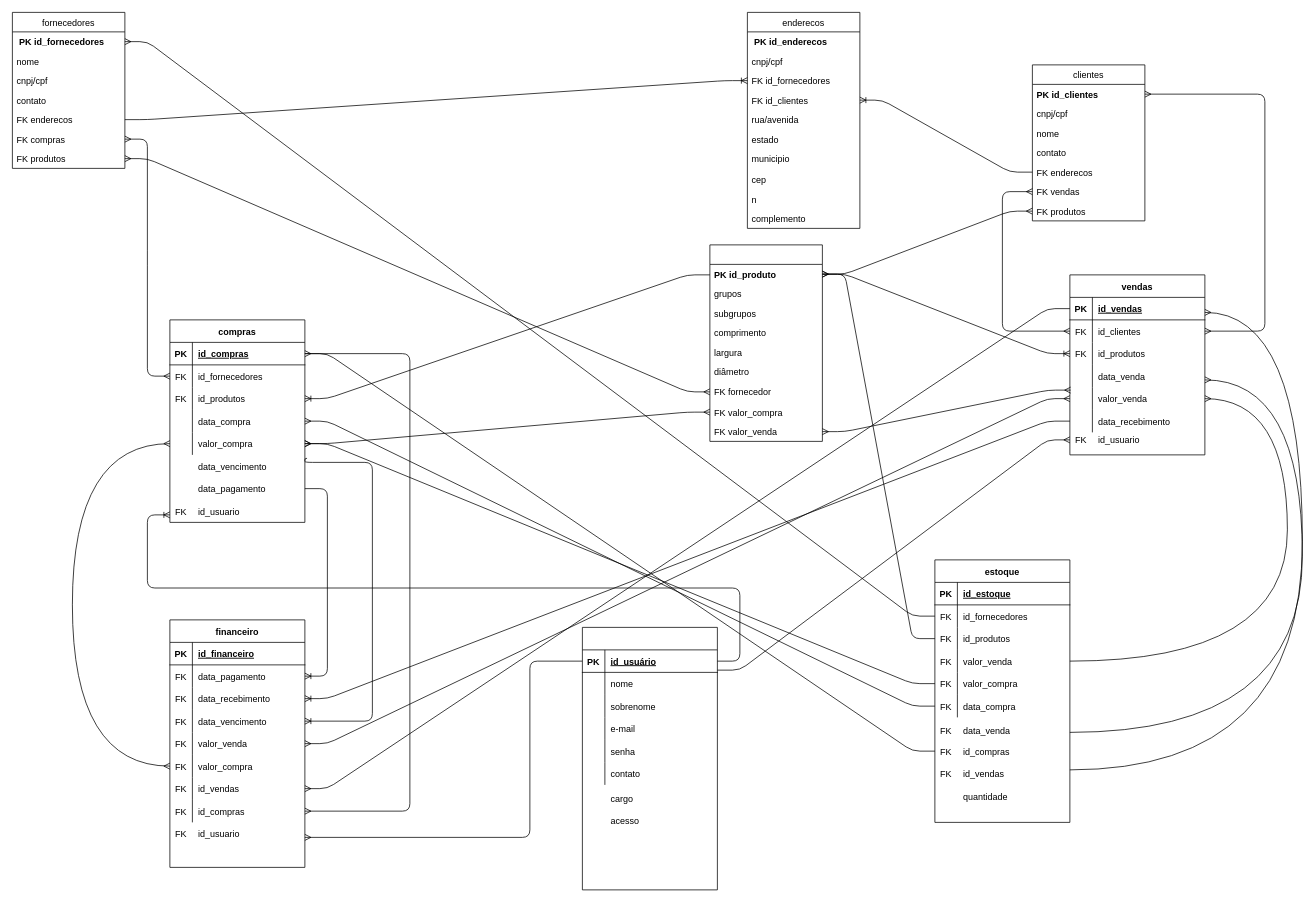
The diagram is 1315 pixels wide and 902 high, and some of its shapes have lost their labels. The shapes that lost their labels are listed below. From the top down, each one's box as (x1, y1, x2, y2) in pixels, then its label:
(709, 244, 822, 441): produtos
(582, 627, 717, 890): usuários
